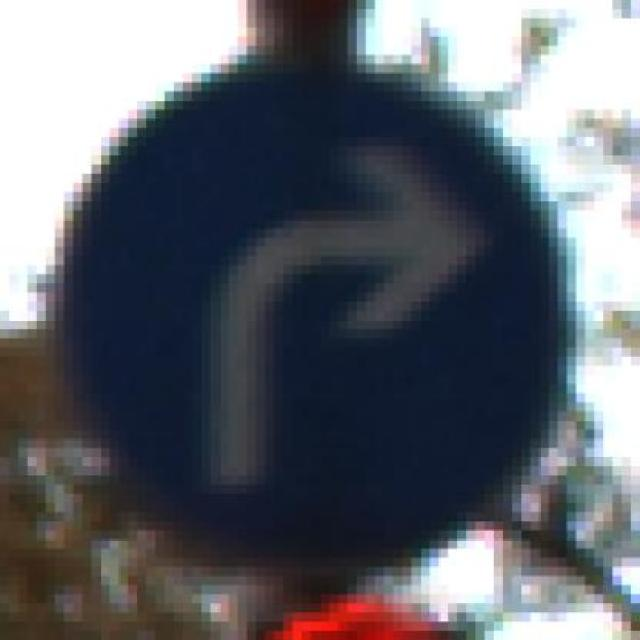Turn right ahead: (27, 54, 585, 586)
